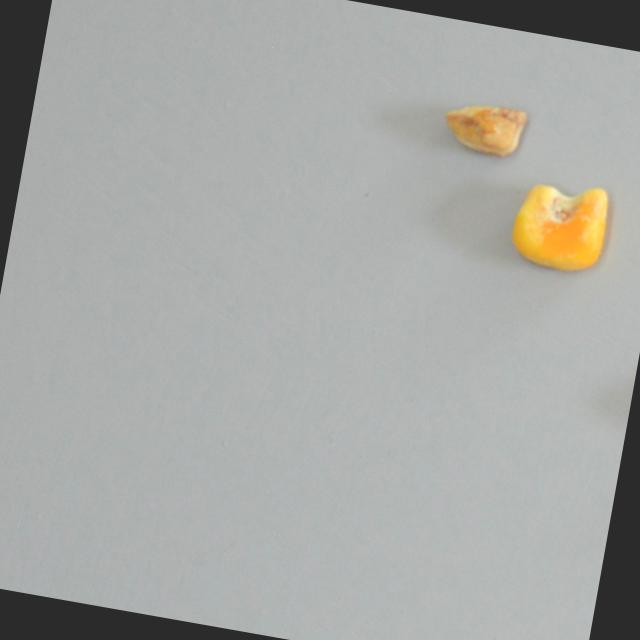dañado: (503, 172, 615, 281), (437, 91, 533, 164)
